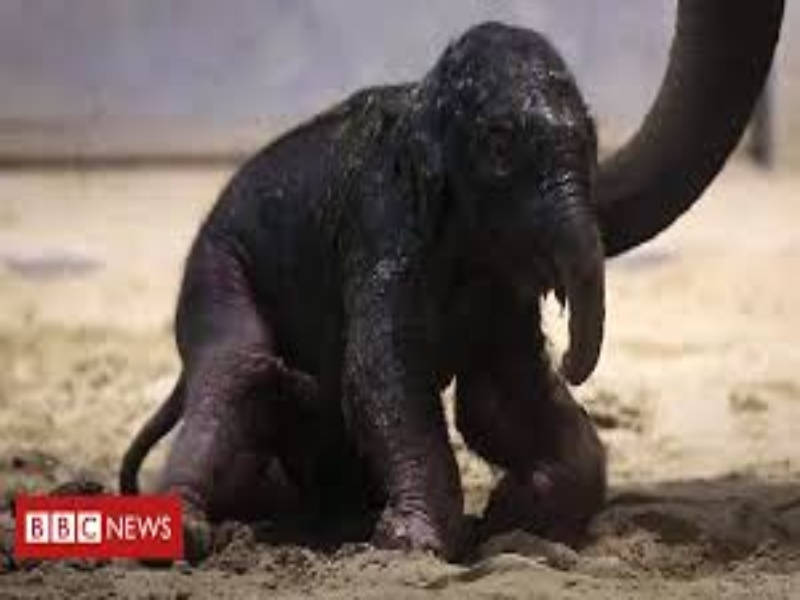elephant: (46, 6, 671, 558)
